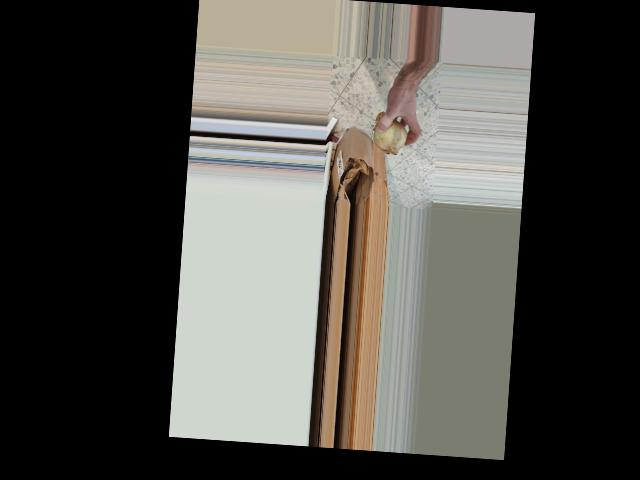onion: (370, 110, 411, 157)
